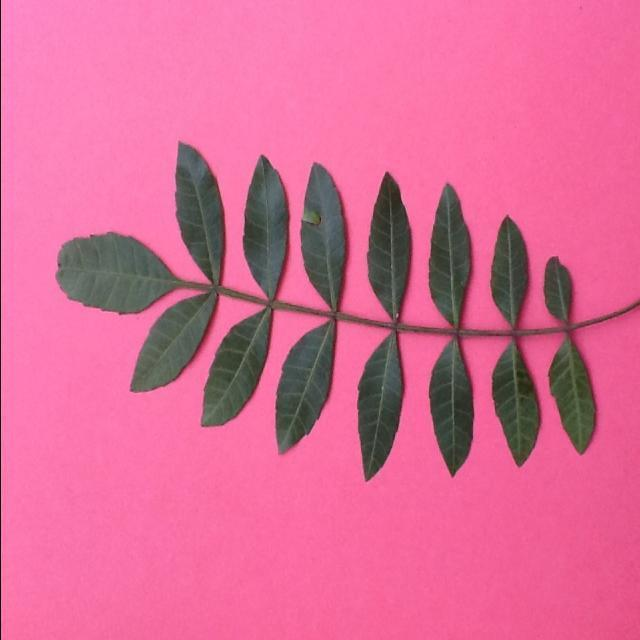foliage: (55, 224, 180, 314), (268, 314, 338, 456), (125, 292, 217, 396), (195, 311, 275, 429), (168, 134, 226, 296), (298, 154, 352, 316), (352, 334, 406, 484), (365, 171, 413, 325), (425, 178, 473, 332), (426, 338, 476, 478), (240, 154, 286, 302), (488, 340, 538, 469), (550, 328, 596, 462), (486, 209, 532, 331), (542, 253, 576, 327)
